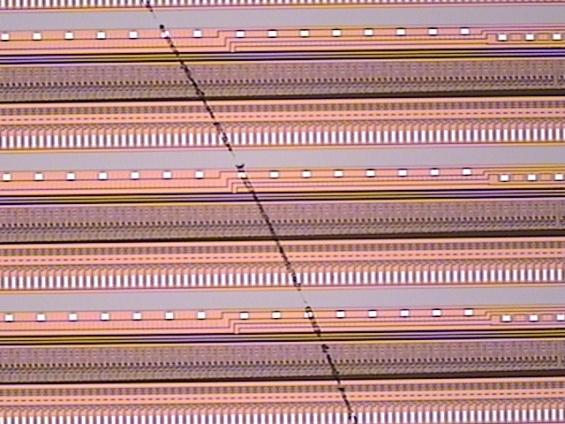SCRATCH: (141, 1, 366, 424)
